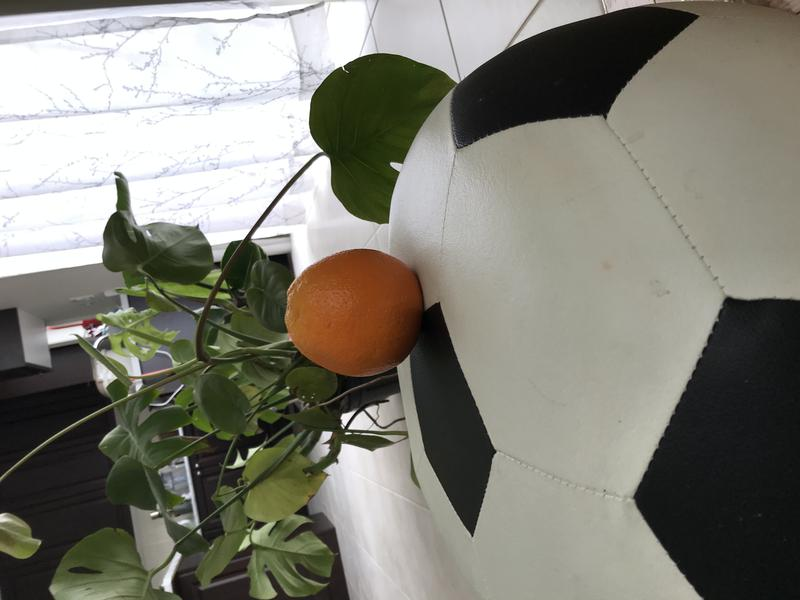orange: (273, 244, 431, 382)
